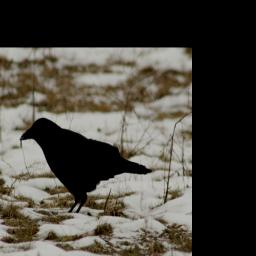Crow: (16, 112, 151, 216)
